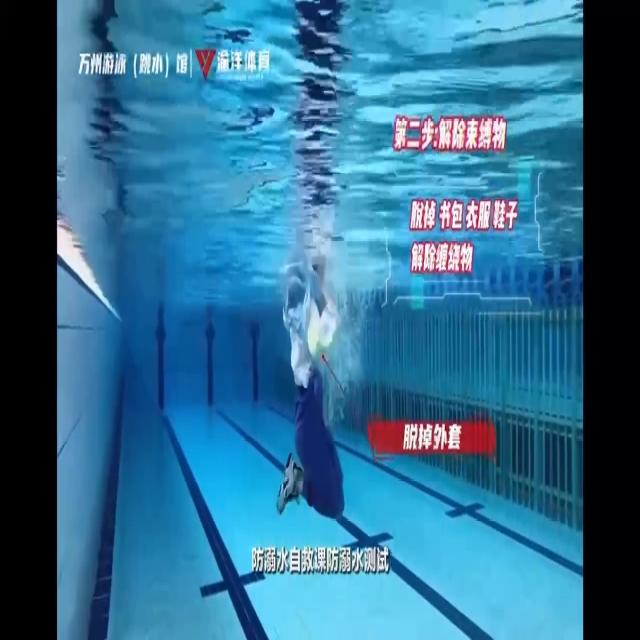Drowning: (276, 273, 344, 518)
